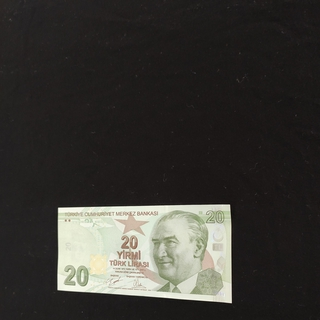20TLFront: (57, 204, 232, 303)
